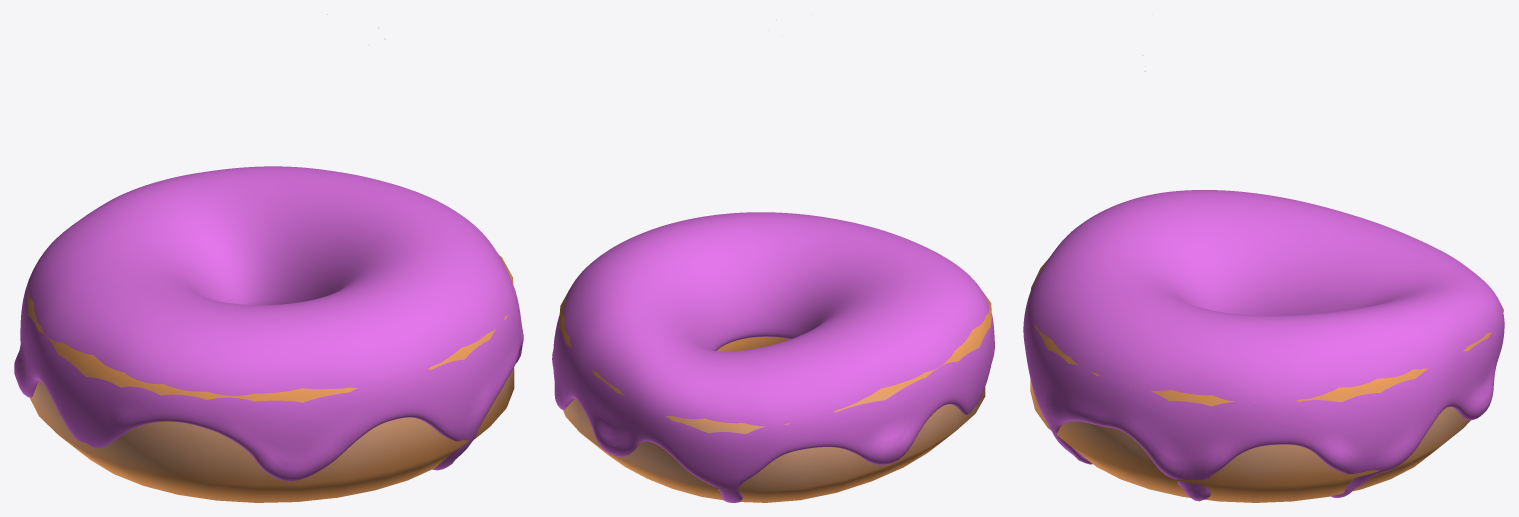
File: big_donut.glb
3 renders of one model, left to right at view 1: azimuth 30°, elevation 25°; view 2: azimuth 150°, elevation 25°; view 3: azimuth 270°, elevation 25°, orthographic. The views are drawn at different scales.
Visible parts, largest first — view 1: icing, Donut; view 2: icing, Donut; view 3: icing, Donut.
Boxes of the visible parts, left/top/right/bottom form: icing: left=14, top=166, right=523, bottom=481; Donut: left=27, top=254, right=514, bottom=502; icing: left=552, top=212, right=994, bottom=502; Donut: left=559, top=290, right=991, bottom=502; icing: left=1023, top=190, right=1504, bottom=501; Donut: left=1030, top=258, right=1503, bottom=502.
Bounding box in the file's own units: 1.5 × 1.49 × 1.53.
Materials: 3 (1 with a texture image).
